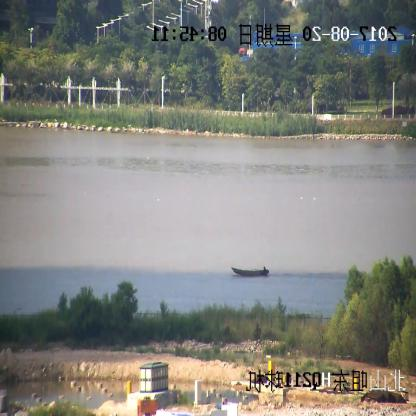Fishing Boat: (231, 264, 270, 278)
